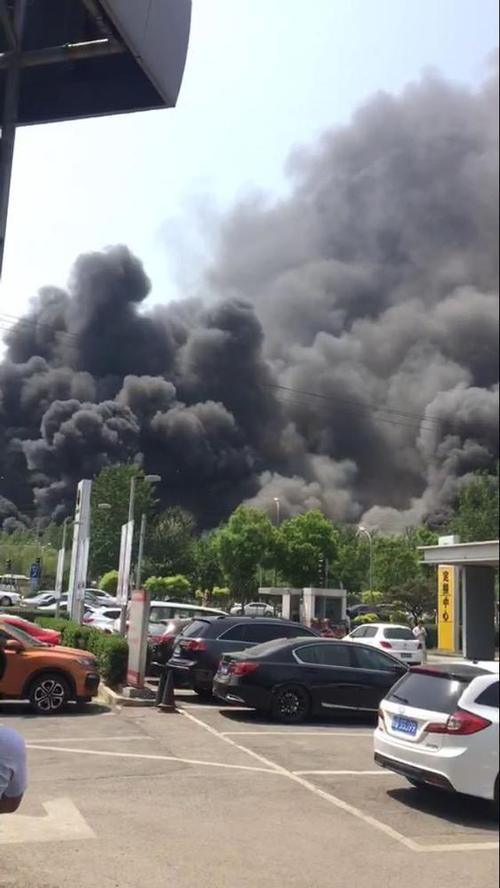smoke: (13, 250, 500, 482)
